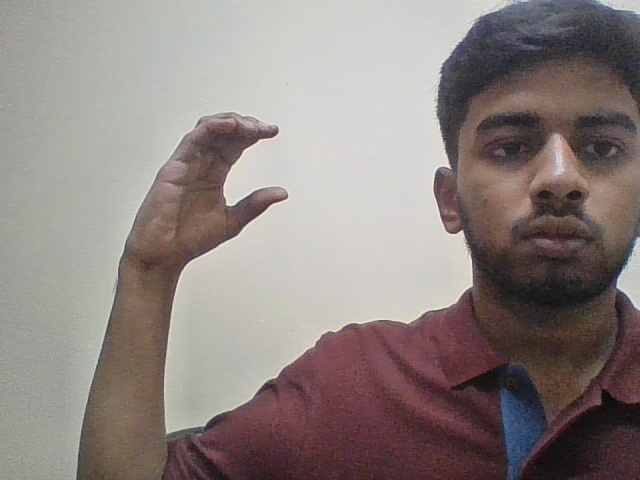C: (104, 84, 308, 285)
